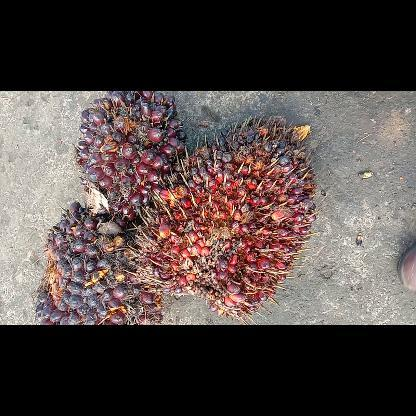Kurang masak: (31, 200, 163, 324), (72, 91, 186, 211)
TBS masak: (130, 116, 314, 324)
